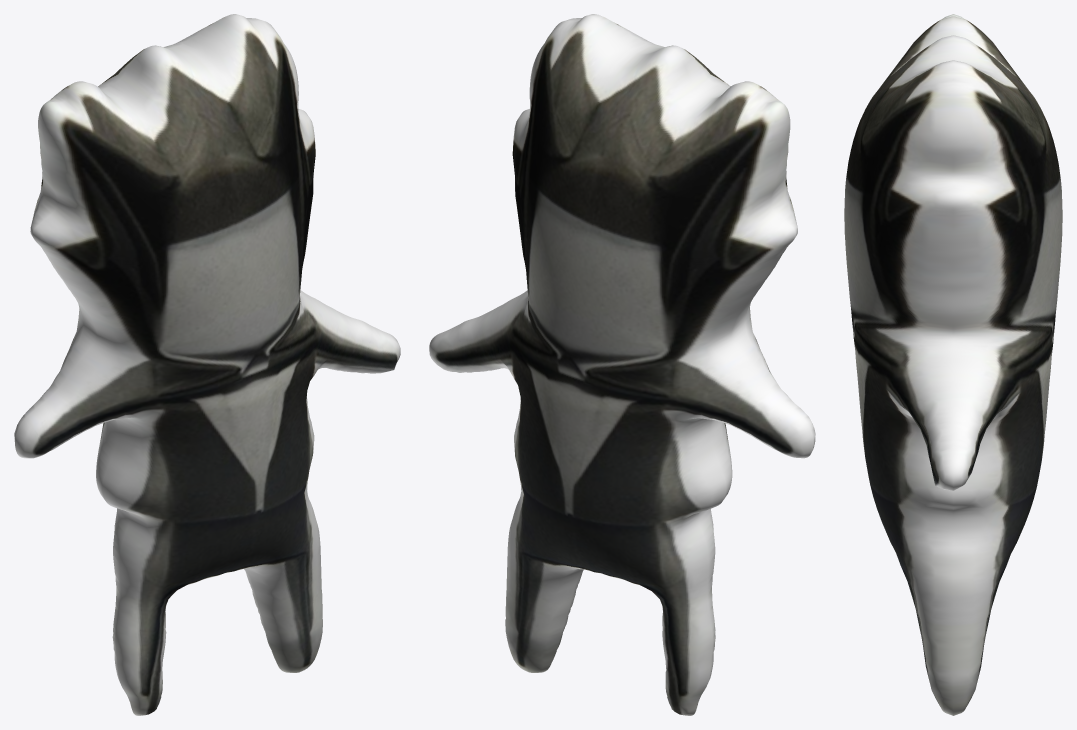
The model's file is mm_project.glb.
The picture shows the model from 3 angles, left to right: view 1: azimuth 30°, elevation 25°; view 2: azimuth 150°, elevation 25°; view 3: azimuth 270°, elevation 25°; orthographic projection. The views are drawn at different scales.
Size of the model in its own units: 3.21 by 5.39 by 1.69.
Materials: 1 (1 with a texture image).
